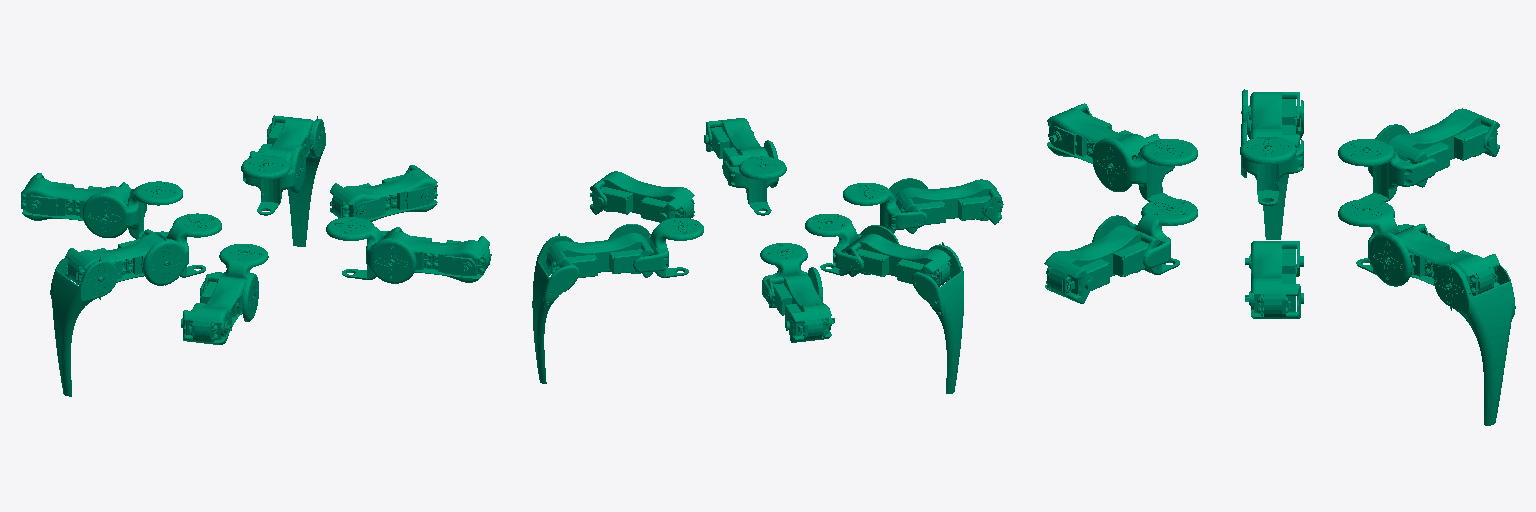
--- Facts derived from the render (not from the file) ---
Views: 3 orthographic renders of the robot side by side, from view 1: azimuth 30°, elevation 25°; view 2: azimuth 150°, elevation 25°; view 3: azimuth 270°, elevation 25°.
Robot: ophelia_description — 19 links, 18 joints (18 revolute); root link base_link; default pose: all joints at 0.
Visible links, largest first — view 1: femore_dx_2, tibia_sx_2, anca_sx_1, anca_dx_3, femore_sx_3, anca_sx_2, femore_dx_3, femore_sx_1, anca_dx_1, femore_sx_2, tibia_dx_1, anca_sx_3 (+1 smaller); view 2: femore_dx_2, femore_sx_3, femore_dx_1, femore_sx_2, femore_sx_1, tibia_sx_2, tibia_dx_1, anca_dx_1, anca_dx_3, anca_sx_2, anca_sx_3, femore_dx_3 (+1 smaller); view 3: tibia_dx_1, femore_dx_3, anca_sx_3, femore_sx_1, femore_dx_2, anca_dx_1, anca_sx_1, femore_dx_1, femore_sx_3, anca_sx_2, anca_dx_3, femore_sx_2 (+1 smaller).
Link boxes in pixels (box(x1,y1,x2,y2)): femore_dx_2: box(330, 165, 437, 221); tibia_sx_2: box(50, 257, 121, 396); anca_sx_1: box(82, 181, 182, 238); anca_dx_3: box(326, 217, 416, 283); femore_sx_3: box(181, 274, 245, 344); anca_sx_2: box(136, 213, 221, 285); femore_dx_3: box(385, 227, 491, 282); femore_sx_1: box(21, 173, 131, 220); anca_dx_1: box(241, 145, 305, 215); femore_sx_2: box(65, 229, 163, 284); tibia_dx_1: box(267, 116, 325, 246); anca_sx_3: box(200, 244, 268, 321); femore_dx_2: box(590, 171, 694, 222); femore_sx_3: box(896, 179, 1003, 233); femore_dx_1: box(546, 233, 654, 277); femore_sx_2: box(846, 234, 950, 286); femore_sx_1: box(766, 274, 834, 342); tibia_sx_2: box(912, 242, 963, 393); tibia_dx_1: box(532, 233, 578, 383); anca_dx_1: box(608, 218, 703, 277); anca_dx_3: box(722, 140, 786, 215); anca_sx_2: box(805, 214, 899, 275); anca_sx_3: box(843, 178, 927, 233); femore_dx_3: box(704, 118, 768, 185); tibia_dx_1: box(1432, 260, 1515, 425); femore_dx_3: box(1044, 225, 1159, 303); anca_sx_3: box(1092, 138, 1197, 201); femore_sx_1: box(1387, 108, 1499, 187); femore_dx_2: box(1245, 241, 1303, 318); anca_dx_1: box(1338, 199, 1434, 286); anca_sx_1: box(1338, 124, 1437, 201); femore_dx_1: box(1396, 224, 1499, 295); femore_sx_3: box(1047, 103, 1159, 163); anca_sx_2: box(1240, 121, 1303, 205); anca_dx_3: box(1092, 198, 1197, 274); femore_sx_2: box(1248, 92, 1300, 147).
Bounding box of the posed robot: 0.4381 × 0.4137 × 0.1622 m (x, y, z).
13 mesh visuals loaded from 19 distinct referenced files (13 binary STL); not drawn: 6 (reference not matched to a file when rendering).

URDF robot description (ophelia_description):
<?xml version="1.0" encoding="utf-8"?>
<!-- This URDF was automatically created by SolidWorks to URDF Exporter! Originally created by Stephen Brawner ([email redacted]) 
     Commit Version: 1.6.0-1-g15f4949  Build Version: 1.6.7594.29634
     For more information, please see http://wiki.ros.org/sw_urdf_exporter -->
<robot
  name="ophelia_description">
  <link
    name="base_link">
    <inertial>
      <origin
        xyz="0.0105219623051945 3.36610586085497E-05 -0.00792468474816551"
        rpy="0 0 0" />
      <mass
        value="0.506895933373967" />
      <inertia
        ixx="0.000886555710776579"
        ixy="1.21372168552929E-07"
        ixz="-2.91797642566944E-07"
        iyy="0.000473024685968639"
        iyz="1.39573200484278E-06"
        izz="0.00130929850997109" />
    </inertial>
    <visual>
      <origin
        xyz="0 0 0"
        rpy="0 0 0" />
      <geometry>
        <mesh
          filename="package://ophelia_description/meshes/base_link.STL" />
      </geometry>
      <material
        name="">
        <color
          rgba="0.00000040  0.615686275 0.4666666666 1" />
      </material>
    </visual>
    <collision>
      <origin
        xyz="0 0 0"
        rpy="0 0 0" />
      <geometry>
        <mesh
          filename="package://ophelia_description/meshes/base_link.STL" />
      </geometry>
    </collision>
  </link>
  <link
    name="anca_dx_1">
    <inertial>
      <origin
        xyz="-0.00323389680675808 0.00346995477748029 -0.0245673530101804"
        rpy="0 0 0" />
      <mass
        value="0.0354716865982115" />
      <inertia
        ixx="1.88446736272661E-05"
        ixy="-1.17107603279209E-06"
        ixz="4.46169241573661E-06"
        iyy="1.90433490756641E-05"
        iyz="4.22453755764313E-06"
        izz="1.08094288467725E-05" />
    </inertial>
    <visual>
      <origin
        xyz="0 0 0"
        rpy="0 0 0" />
      <geometry>
        <mesh
          filename="package://ophelia_description/meshes/anca_dx_1.STL" />
      </geometry>
      <material
        name="">
        <color
          rgba="0.00000040  0.615686275 0.4666666666 1" />
      </material>
    </visual>
    <collision>
      <origin
        xyz="0 0 0"
        rpy="0 0 0" />
      <geometry>
        <mesh
          filename="package://ophelia_description/meshes/anca_dx_1.STL" />
      </geometry>
    </collision>
  </link>
  <joint
    name="anca_dx_1_joint"
    type="revolute">
    <origin
      xyz="0.0627104221301381 0.0863760934387532 0"
      rpy="2.35619449 1.5707963267949 0" />
    <parent
      link="base_link" />
    <child
      link="anca_dx_1" />
    <axis
      xyz="1 0 0" />
    <limit
      lower="-1.57"
      upper="1.57"
      effort="1.4"
      velocity="6" />
  </joint>
  <link
    name="femore_dx_1">
    <inertial>
      <origin
        xyz="-0.0036938835869985 0.000158520879731687 -0.0380942110884576"
        rpy="0 0 0" />
      <mass
        value="0.0445431860265775" />
      <inertia
        ixx="4.62592694376746E-05"
        ixy="-1.3983647288844E-08"
        ixz="7.12387922750904E-12"
        iyy="4.22369316397224E-05"
        iyz="-1.20744154365051E-10"
        izz="8.29169211957236E-06" />
    </inertial>
    <visual>
      <origin
        xyz="0 0 0"
        rpy="0 0 0" />
      <geometry>
        <mesh
          filename="package://ophelia_description/meshes/femore_dx_1.STL" />
      </geometry>
      <material
        name="">
        <color
          rgba="0.00000040  0.615686275 0.4666666666 1" />
      </material>
    </visual>
    <collision>
      <origin
        xyz="0 0 0"
        rpy="0 0 0" />
      <geometry>
        <mesh
          filename="package://ophelia_description/meshes/femore_dx_1.STL" />
      </geometry>
    </collision>
  </link>
  <joint
    name="femore_dx_1_joint"
    type="revolute">
    <origin
      xyz="0.00133227469142768 0 -0.0498117199622284"
      rpy="0 0 1.5707963267949" />
    <parent
      link="anca_dx_1" />
    <child
      link="femore_dx_1" />
    <axis
      xyz="1 0 0" />
    <limit
      lower="-1.57"
      upper="1.57"
      effort="1.4"
      velocity="6" />
  </joint>
  <link
    name="tibia_dx_1">
    <inertial>
      <origin
        xyz="-0.00193906215400591 -0.0368539506888894 -0.0208600783540478"
        rpy="0 0 0" />
      <mass
        value="0.0396706746474517" />
      <inertia
        ixx="4.44874139165086E-05"
        ixy="-5.94508754212314E-06"
        ixz="-2.84322745135156E-06"
        iyy="1.06655287393302E-05"
        iyz="-7.20208570121036E-06"
        izz="4.67289695175325E-05" />
    </inertial>
    <visual>
      <origin
        xyz="0 0 0"
        rpy="0 0 0" />
      <geometry>
        <mesh
          filename="package://ophelia_description/meshes/tibia_dx_1.STL" />
      </geometry>
      <material
        name="">
        <color
          rgba="0.00000040  0.615686275 0.4666666666 1" />
      </material>
    </visual>
    <collision>
      <origin
        xyz="0 0 0"
        rpy="0 0 0" />
      <geometry>
        <mesh
          filename="package://ophelia_description/meshes/tibia_dx_1.STL" />
      </geometry>
    </collision>
  </link>
  <joint
    name="tibia_dx_1_joint"
    type="revolute">
    <origin
      xyz="0 0 -0.076188280037771"
      rpy="0 0 0" />
    <parent
      link="femore_dx_1" />
    <child
      link="tibia_dx_1" />
    <axis
      xyz="1 0 0" />
    <limit
      lower="-1.57"
      upper="1.57"
      effort="1.4"
      velocity="6" />
  </joint>
  <link
    name="anca_dx_2">
    <inertial>
      <origin
        xyz="-0.00323375492505733 0.00346731477780764 -0.0245673341981753"
        rpy="0 0 0" />
      <mass
        value="0.0354713544747308" />
      <inertia
        ixx="1.88446235559686E-05"
        ixy="-1.17103284633536E-06"
        ixz="4.46169969998141E-06"
        iyy="1.9043316977783E-05"
        iyz="4.22455506706216E-06"
        izz="1.08093543583445E-05" />
    </inertial>
    <visual>
      <origin
        xyz="0 0 0"
        rpy="0 0 0" />
      <geometry>
        <mesh
          filename="package://ophelia_description/meshes/anca_dx_2.STL" />
      </geometry>
      <material
        name="">
        <color
          rgba="0.00000040  0.615686275 0.4666666666 1" />
      </material>
    </visual>
    <collision>
      <origin
        xyz="0 0 0"
        rpy="0 0 0" />
      <geometry>
        <mesh
          filename="package://ophelia_description/meshes/anca_dx_2.STL" />
      </geometry>
    </collision>
  </link>
  <joint
    name="anca_dx_2_joint"
    type="revolute">
    <origin
      xyz="0.0670944841734966 0 0"
      rpy="3.14159265358979 1.5707963267949 0" />
    <parent
      link="base_link" />
    <child
      link="anca_dx_2" />
    <axis
      xyz="1 0 0" />
    <limit
      lower="-1.57"
      upper="1.57"
      effort="1.4"
      velocity="6" />
  </joint>
  <link
    name="femore_dx_2">
    <inertial>
      <origin
        xyz="-0.003826680116603 0.000158518776920535 0.0380940691143695"
        rpy="0 0 0" />
      <mass
        value="0.0445431666453316" />
      <inertia
        ixx="4.62592807267538E-05"
        ixy="-1.39844533309623E-08"
        ixz="7.04697296668335E-12"
        iyy="4.22369439501561E-05"
        iyz="-1.25831469410063E-10"
        izz="8.29169800938231E-06" />
    </inertial>
    <visual>
      <origin
        xyz="0 0 0"
        rpy="0 0 0" />
      <geometry>
        <mesh
          filename="package://ophelia_description/meshes/femore_dx_2.STL" />
      </geometry>
      <material
        name="">
        <color
          rgba="0.00000040  0.615686275 0.4666666666 1" />
      </material>
    </visual>
    <collision>
      <origin
        xyz="0 0 0"
        rpy="0 0 0" />
      <geometry>
        <mesh
          filename="package://ophelia_description/meshes/femore_dx_2.STL" />
      </geometry>
    </collision>
  </link>
  <joint
    name="femore_dx_2_joint"
    type="revolute">
    <origin
      xyz="0.00133227469142792 0 -0.0498117199622285"
      rpy="-3.14159265358979 0 1.5707963267949" />
    <parent
      link="anca_dx_2" />
    <child
      link="femore_dx_2" />
    <axis
      xyz="1 0 0" />
    <limit
      lower="-1.57"
      upper="1.57"
      effort="1.4"
      velocity="6" />
  </joint>
  <link
    name="tibia_dx_2">
    <inertial>
      <origin
        xyz="-0.00220200107185856 -0.0368528297653786 -0.0208603907506469"
        rpy="0 0 0" />
      <mass
        value="0.0396699268755547" />
      <inertia
        ixx="4.44843989609696E-05"
        ixy="-5.94509274385494E-06"
        ixz="-2.84335337869824E-06"
        iyy="1.06651179434915E-05"
        iyz="-7.2021085417293E-06"
        izz="4.67258663954593E-05" />
    </inertial>
    <visual>
      <origin
        xyz="0 0 0"
        rpy="0 0 0" />
      <geometry>
        <mesh
          filename="package://ophelia_description/meshes/tibia_dx_2.STL" />
      </geometry>
      <material
        name="">
        <color
          rgba="0.00000040  0.615686275 0.4666666666 1" />
      </material>
    </visual>
    <collision>
      <origin
        xyz="0 0 0"
        rpy="0 0 0" />
      <geometry>
        <mesh
          filename="package://ophelia_description/meshes/tibia_dx_2.STL" />
      </geometry>
    </collision>
  </link>
  <joint
    name="tibia_dx_2_joint"
    type="revolute">
    <origin
      xyz="0 0 0.076188280037771"
      rpy="-3.14159265358979 0 0" />
    <parent
      link="femore_dx_2" />
    <child
      link="tibia_dx_2" />
    <axis
      xyz="1 0 0" />
    <limit
      lower="-1.57"
      upper="1.57"
      effort="1.4"
      velocity="6" />
  </joint>
  <link
    name="anca_dx_3">
    <inertial>
      <origin
        xyz="-0.00456626132940545 0.00464759531970847 0.0252443543785638"
        rpy="0 0 0" />
      <mass
        value="0.0354720709707642" />
      <inertia
        ixx="1.88447400544191E-05"
        ixy="-1.17110060619489E-06"
        ixz="4.46168951305117E-06"
        iyy="1.90433540348176E-05"
        iyz="4.22455273155874E-06"
        izz="1.08095244536224E-05" />
    </inertial>
    <visual>
      <origin
        xyz="0 0 0"
        rpy="0 0 0" />
      <geometry>
        <mesh
          filename="package://ophelia_description/meshes/anca_dx_3.STL" />
      </geometry>
      <material
        name="">
        <color
          rgba="0.00000040  0.615686275 0.4666666666 1" />
      </material>
    </visual>
    <collision>
      <origin
        xyz="0 0 0"
        rpy="0 0 0" />
      <geometry>
        <mesh
          filename="package://ophelia_description/meshes/anca_dx_3.STL" />
      </geometry>
    </collision>
  </link>
  <joint
    name="anca_dx_3_joint"
    type="revolute">
    <origin
      xyz="0.0626184982485877 -0.0863310541319508 0"
      rpy="1.5707963267949 0 0.785398163397448" />
    <parent
      link="base_link" />
    <child
      link="anca_dx_3" />
    <axis
      xyz="0 1 0" />
    <limit
      lower="-1.57"
      upper="1.57"
      effort="1.4"
      velocity="6" />
  </joint>
  <link
    name="femore_dx_3">
    <inertial>
      <origin
        xyz="-0.00131393850337766 0.000158520879733592 0.0380940689493133"
        rpy="0 0 0" />
      <mass
        value="0.0445431860265776" />
      <inertia
        ixx="4.62592694376746E-05"
        ixy="-1.39836472888413E-08"
        ixz="7.12387927449193E-12"
        iyy="4.22369316397224E-05"
        iyz="-1.20744154360823E-10"
        izz="8.29169211957237E-06" />
    </inertial>
    <visual>
      <origin
        xyz="0 0 0"
        rpy="0 0 0" />
      <geometry>
        <mesh
          filename="package://ophelia_description/meshes/femore_dx_3.STL" />
      </geometry>
      <material
        name="">
        <color
          rgba="0.00000040  0.615686275 0.4666666666 1" />
      </material>
    </visual>
    <collision>
      <origin
        xyz="0 0 0"
        rpy="0 0 0" />
      <geometry>
        <mesh
          filename="package://ophelia_description/meshes/femore_dx_3.STL" />
      </geometry>
    </collision>
  </link>
  <joint
    name="femore_dx_3_joint"
    type="revolute">
    <origin
      xyz="0 0.00117767039219315 0.0498117199622282"
      rpy="0 0 3.14159265358979" />
    <parent
      link="anca_dx_3" />
    <child
      link="femore_dx_3" />
    <axis
      xyz="1 0 0" />
    <limit
      lower="-1.57"
      upper="1.57"
      effort="1.4"
      velocity="6" />
  </joint>
  <link
    name="tibia_dx_3">
    <inertial>
      <origin
        xyz="0.000310882929613454 -0.0368539506888887 -0.020860078354048"
        rpy="0 0 0" />
      <mass
        value="0.0396706746474524" />
      <inertia
        ixx="4.44874139165106E-05"
        ixy="-5.94508754212299E-06"
        ixz="-2.84322745135158E-06"
        iyy="1.06655287393303E-05"
        iyz="-7.20208570121041E-06"
        izz="4.67289695175346E-05" />
    </inertial>
    <visual>
      <origin
        xyz="0 0 0"
        rpy="0 0 0" />
      <geometry>
        <mesh
          filename="package://ophelia_description/meshes/tibia_dx_3.STL" />
      </geometry>
      <material
        name="">
        <color
          rgba="0.00000040  0.615686275 0.4666666666 1" />
      </material>
    </visual>
    <collision>
      <origin
        xyz="0 0 0"
        rpy="0 0 0" />
      <geometry>
        <mesh
          filename="package://ophelia_description/meshes/tibia_dx_3.STL" />
      </geometry>
    </collision>
  </link>
  <joint
    name="tibia_dx_3_joint"
    type="revolute">
    <origin
      xyz="0 0 0.0761882800377711"
      rpy="-3.14159265358979 0 0" />
    <parent
      link="femore_dx_3" />
    <child
      link="tibia_dx_3" />
    <axis
      xyz="1 0 0" />
    <limit
      lower="-1.57"
      upper="1.57"
      effort="1.4"
      velocity="6" />
  </joint>
  <link
    name="anca_sx_1">
    <inertial>
      <origin
        xyz="0.00323388809338964 0.0245673629086991 0.00347137237425802"
        rpy="0 0 0" />
      <mass
        value="0.0354719515904127" />
      <inertia
        ixx="1.88446870349286E-05"
        ixy="4.4616701946574E-06"
        ixz="1.17110676805881E-06"
        iyy="1.08094777683374E-05"
        iyz="-4.22454617414555E-06"
        izz="1.90433568045106E-05" />
    </inertial>
    <visual>
      <origin
        xyz="0 0 0"
        rpy="0 0 0" />
      <geometry>
        <mesh
          filename="package://ophelia_description/meshes/anca_sx_1.STL" />
      </geometry>
      <material
        name="">
        <color
          rgba="0.00000040  0.615686275 0.4666666666 1" />
      </material>
    </visual>
    <collision>
      <origin
        xyz="0 0 0"
        rpy="0 0 0" />
      <geometry>
        <mesh
          filename="package://ophelia_description/meshes/anca_sx_1.STL" />
      </geometry>
    </collision>
  </link>
  <joint
    name="anca_sx_1_joint"
    type="revolute">
    <origin
      xyz="-0.0627103502216307 0.0863760934387502 0"
      rpy="0.7853981634 -1.5707963267949 0" />
    <parent
      link="base_link" />
    <child
      link="anca_sx_1" />
    <axis
      xyz="1 0 0" />
    <limit
      lower="-1.57"
      upper="1.57"
      effort="1.4"
      velocity="6" />
  </joint>
  <link
    name="femore_sx_1">
    <inertial>
      <origin
        xyz="-0.00382388358699876 0.000158520879732488 0.0380940689493132"
        rpy="0 0 0" />
      <mass
        value="0.0445431860265776" />
      <inertia
        ixx="4.62592694376745E-05"
        ixy="-1.39836472888559E-08"
        ixz="7.12387924955934E-12"
        iyy="4.22369316397223E-05"
        iyz="-1.20744154381678E-10"
        izz="8.29169211957234E-06" />
    </inertial>
    <visual>
      <origin
        xyz="0 0 0"
        rpy="0 0 0" />
      <geometry>
        <mesh
          filename="package://ophelia_description/meshes/femore_sx_1.STL" />
      </geometry>
      <material
        name="">
        <color
          rgba="0.00000040  0.615686275 0.4666666666 1" />
      </material>
    </visual>
    <collision>
      <origin
        xyz="0 0 0"
        rpy="0 0 0" />
      <geometry>
        <mesh
          filename="package://ophelia_description/meshes/femore_sx_1.STL" />
      </geometry>
    </collision>
  </link>
  <joint
    name="femore_sx_1_joint"
    type="revolute">
    <origin
      xyz="-0.00133227469142714 0.0498117199622285 0"
      rpy="0 -1.57079631189374 -1.5707963267949" />
    <parent
      link="anca_sx_1" />
    <child
      link="femore_sx_1" />
    <axis
      xyz="1 0 0" />
    <limit
      lower="-1.57"
      upper="1.57"
      effort="1.4"
      velocity="6" />
  </joint>
  <link
    name="tibia_sx_1">
    <inertial>
      <origin
        xyz="-0.00219952390326031 -0.0368542666881217 0.0208595915472915"
        rpy="0 0 0" />
      <mass
        value="0.0396720793184836" />
      <inertia
        ixx="4.44913551110852E-05"
        ixy="-5.94478253100603E-06"
        ixz="2.84319886361952E-06"
        iyy="1.06656404965699E-05"
        iyz="7.20236824568953E-06"
        izz="4.67325828802255E-05" />
    </inertial>
    <visual>
      <origin
        xyz="0 0 0"
        rpy="0 0 0" />
      <geometry>
        <mesh
          filename="package://ophelia_description/meshes/tibia_sx_1.STL" />
      </geometry>
      <material
        name="">
        <color
          rgba="0.00000040  0.615686275 0.4666666666 1" />
      </material>
    </visual>
    <collision>
      <origin
        xyz="0 0 0"
        rpy="0 0 0" />
      <geometry>
        <mesh
          filename="package://ophelia_description/meshes/tibia_sx_1.STL" />
      </geometry>
    </collision>
  </link>
  <joint
    name="tibia_sx_1_joint"
    type="revolute">
    <origin
      xyz="0 0 0.0761882800377709"
      rpy="0 0 0" />
    <parent
      link="femore_sx_1" />
    <child
      link="tibia_sx_1" />
    <axis
      xyz="1 0 0" />
    <limit
      lower="-1.57"
      upper="1.57"
      effort="1.4"
      velocity="6" />
  </joint>
  <link
    name="anca_sx_2">
    <inertial>
      <origin
        xyz="0.0032337980141169 -0.00346857696436976 0.0245673925915672"
        rpy="0 0 0" />
      <mass
        value="0.0354719064351742" />
      <inertia
        ixx="1.88447195235852E-05"
        ixy="-1.17111873598878E-06"
        ixz="4.46167873097274E-06"
        iyy="1.90433326228346E-05"
        iyz="4.22456521017456E-06"
        izz="1.08095007608206E-05" />
    </inertial>
    <visual>
      <origin
        xyz="0 0 0"
        rpy="0 0 0" />
      <geometry>
        <mesh
          filename="package://ophelia_description/meshes/anca_sx_2.STL" />
      </geometry>
      <material
        name="">
        <color
          rgba="0.00000040  0.615686275 0.4666666666 1" />
      </material>
    </visual>
    <collision>
      <origin
        xyz="0 0 0"
        rpy="0 0 0" />
      <geometry>
        <mesh
          filename="package://ophelia_description/meshes/anca_sx_2.STL" />
      </geometry>
    </collision>
  </link>
  <joint
    name="anca_sx_2_joint"
    type="revolute">
    <origin
      xyz="-0.0670944122649851 0 0"
      rpy="0 -1.5707963267949 0" />
    <parent
      link="base_link" />
    <child
      link="anca_sx_2" />
    <axis
      xyz="1 0 0" />
    <limit
      lower="-1.57"
      upper="1.57"
      effort="1.4"
      velocity="6" />
  </joint>
  <link
    name="femore_sx_2">
    <inertial>
      <origin
        xyz="-0.00369668011659995 0.000158518776920285 -0.0380942109234015"
        rpy="0 0 0" />
      <mass
        value="0.0445431666453314" />
      <inertia
        ixx="4.62592807267538E-05"
        ixy="-1.39844533309663E-08"
        ixz="7.04697296663618E-12"
        iyy="4.2236943950156E-05"
        iyz="-1.25831469420661E-10"
        izz="8.29169800938229E-06" />
    </inertial>
    <visual>
      <origin
        xyz="0 0 0"
        rpy="0 0 0" />
      <geometry>
        <mesh
          filename="package://ophelia_description/meshes/femore_sx_2.STL" />
      </geometry>
      <material
        name="">
        <color
          rgba="0.00000040  0.615686275 0.4666666666 1" />
      </material>
    </visual>
    <collision>
      <origin
        xyz="0 0 0"
        rpy="0 0 0" />
      <geometry>
        <mesh
          filename="package://ophelia_description/meshes/femore_sx_2.STL" />
      </geometry>
    </collision>
  </link>
  <joint
    name="femore_sx_2_joint"
    type="revolute">
    <origin
      xyz="-0.00133227469142839 0 0.0498117199622285"
      rpy="-3.14159265358979 0 -1.5707963267949" />
    <parent
      link="anca_sx_2" />
    <child
      link="femore_sx_2" />
    <axis
      xyz="1 0 0" />
    <limit
      lower="-1.57"
      upper="1.57"
      effort="1.4"
      velocity="6" />
  </joint>
  <link
    name="tibia_sx_2">
    <inertial>
      <origin
        xyz="-0.00194236641107601 -0.0368514625767511 0.0208598016151444"
        rpy="0 0 0" />
      <mass
        value="0.0396703781244613" />
      <inertia
        ixx="4.4488302939806E-05"
        ixy="-5.94473711705824E-06"
        ixz="2.84327763352901E-06"
        iyy="1.06654311142888E-05"
        iyz="7.20245007776805E-06"
        izz="4.67294696441966E-05" />
    </inertial>
    <visual>
      <origin
        xyz="0 0 0"
        rpy="0 0 0" />
      <geometry>
        <mesh
          filename="package://ophelia_description/meshes/tibia_sx_2.STL" />
      </geometry>
      <material
        name="">
        <color
          rgba="0.00000040  0.615686275 0.4666666666 1" />
      </material>
    </visual>
    <collision>
      <origin
        xyz="0 0 0"
        rpy="0 0 0" />
      <geometry>
        <mesh
          filename="package://ophelia_description/meshes/tibia_sx_2.STL" />
      </geometry>
    </collision>
  </link>
  <joint
    name="tibia_sx_2_joint"
    type="revolute">
    <origin
      xyz="0 0 -0.076188280037771"
      rpy="3.14159265358979 0 0" />
    <parent
      link="femore_sx_2" />
    <child
      link="tibia_sx_2" />
    <axis
      xyz="1 0 0" />
    <limit
      lower="-1.57"
      upper="1.57"
      effort="1.4"
      velocity="6" />
  </joint>
  <link
    name="anca_sx_3">
    <inertial>
      <origin
        xyz="0.00323388809338715 -0.00347137237425693 0.0245673629086991"
        rpy="0 0 0" />
      <mass
        value="0.0354719515904128" />
      <inertia
        ixx="1.88446870349285E-05"
        ixy="-1.17110676805874E-06"
        ixz="4.46167019465748E-06"
        iyy="1.90433568045108E-05"
        iyz="4.22454617414534E-06"
        izz="1.08094777683373E-05" />
    </inertial>
    <visual>
      <origin
        xyz="0 0 0"
        rpy="0 0 0" />
      <geometry>
        <mesh
          filename="package://ophelia_description/meshes/anca_sx_3.STL" />
      </geometry>
      <material
        name="">
        <color
          rgba="0.00000040  0.615686275 0.4666666666 1" />
      </material>
    </visual>
    <collision>
      <origin
        xyz="0 0 0"
        rpy="0 0 0" />
      <geometry>
        <mesh
          filename="package://ophelia_description/meshes/anca_sx_3.STL" />
      </geometry>
    </collision>
  </link>
  <joint
    name="anca_sx_3_joint"
    type="revolute">
    <origin
      xyz="-0.0626184263400723 -0.0863310541319536 0"
      rpy="0.7853981634 -1.5707963267949 0" />
    <parent
      link="base_link" />
    <child
      link="anca_sx_3" />
    <axis
      xyz="1 0 0" />
    <limit
      lower="-1.57"
      upper="1.57"
      effort="1.4"
      velocity="6" />
  </joint>
  <link
    name="femore_sx_3">
    <inertial>
      <origin
        xyz="-0.00382388347149622 0.000158520908407654 0.0380940687062796"
        rpy="0 0 0" />
      <mass
        value="0.0445431857932994" />
      <inertia
        ixx="4.62592694308252E-05"
        ixy="-1.3983642279033E-08"
        ixz="7.1223654449815E-12"
        iyy="4.2236931635957E-05"
        iyz="-1.20746242108502E-10"
        izz="8.29169210957015E-06" />
    </inertial>
    <visual>
      <origin
        xyz="0 0 0"
        rpy="0 0 0" />
      <geometry>
        <mesh
          filename="package://ophelia_description/meshes/femore_sx_3.STL" />
      </geometry>
      <material
        name="">
        <color
          rgba="0.00000040  0.615686275 0.4666666666 1" />
      </material>
    </visual>
    <collision>
      <origin
        xyz="0 0 0"
        rpy="0 0 0" />
      <geometry>
        <mesh
          filename="package://ophelia_description/meshes/femore_sx_3.STL" />
      </geometry>
    </collision>
  </link>
  <joint
    name="femore_sx_3_joint"
    type="revolute">
    <origin
      xyz="-0.00133227469143045 0 0.0498117199622283"
      rpy="0 0 -1.5707963267949" />
    <parent
      link="anca_sx_3" />
    <child
      link="femore_sx_3" />
    <axis
      xyz="1 0 0" />
    <limit
      lower="-1.57"
      upper="1.57"
      effort="1.4"
      velocity="6" />
  </joint>
  <link
    name="tibia_sx_3">
    <inertial>
      <origin
        xyz="-0.00219909878739107 -0.0368546862956342 0.0208598908984984"
        rpy="0 0 0" />
      <mass
        value="0.0396714881051277" />
      <inertia
        ixx="4.44911771294879E-05"
        ixy="-5.94478832900012E-06"
        ixz="2.8432111831779E-06"
        iyy="1.06655091356156E-05"
        iyz="7.20231251501791E-06"
        izz="4.67325341432337E-05" />
    </inertial>
    <visual>
      <origin
        xyz="0 0 0"
        rpy="0 0 0" />
      <geometry>
        <mesh
          filename="package://ophelia_description/meshes/tibia_sx_3.STL" />
      </geometry>
      <material
        name="">
        <color
          rgba="0.00000040  0.615686275 0.4666666666 1" />
      </material>
    </visual>
    <collision>
      <origin
        xyz="0 0 0"
        rpy="0 0 0" />
      <geometry>
        <mesh
          filename="package://ophelia_description/meshes/tibia_sx_3.STL" />
      </geometry>
    </collision>
  </link>
  <joint
    name="tibia_sx_3_joint"
    type="revolute">
    <origin
      xyz="0 0 0.0761882800377711"
      rpy="0 0 0" />
    <parent
      link="femore_sx_3" />
    <child
      link="tibia_sx_3" />
    <axis
      xyz="1 0 0" />
    <limit
      lower="-1.57"
      upper="1.57"
      effort="1.4"
      velocity="6" />
  </joint>
</robot>
